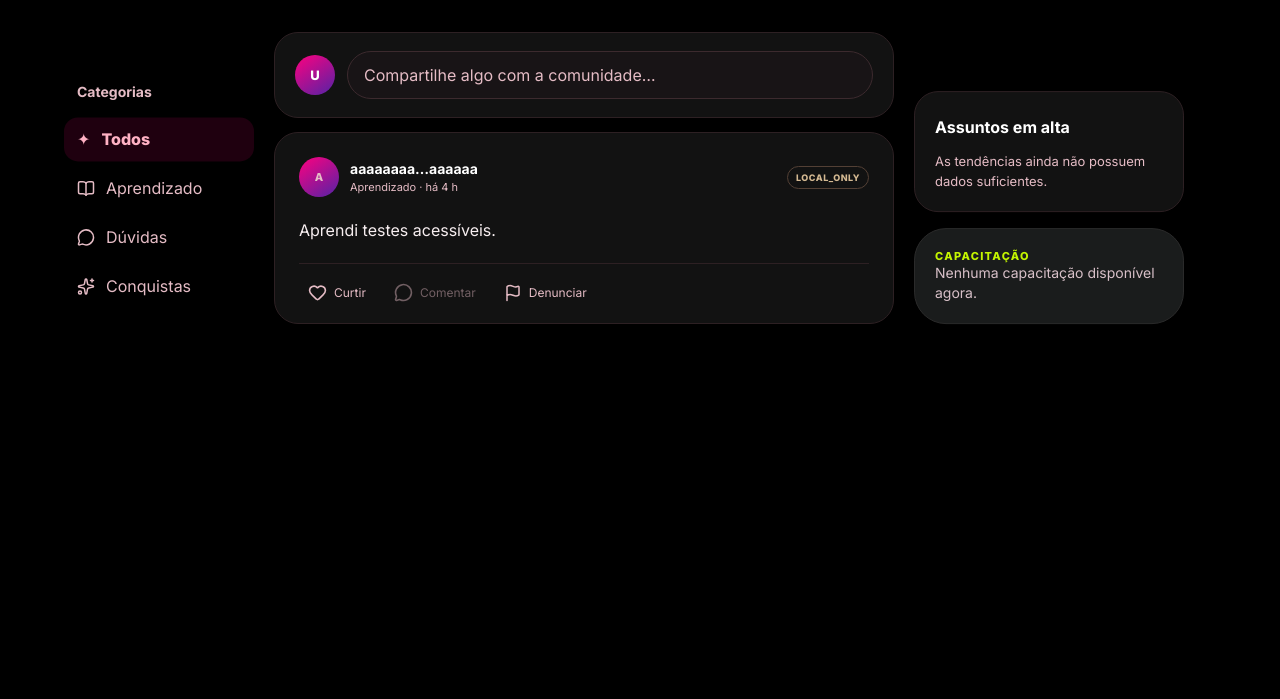
Test: Comunidade da Fase 8 › rejeita conteúdo vazio e mantém mídia desabilitada
The width and height of the screenshot is (1280, 699).
Click the button "U Compartilhe algo com a comunidade…" at (584, 75), box [295,51,873,99]
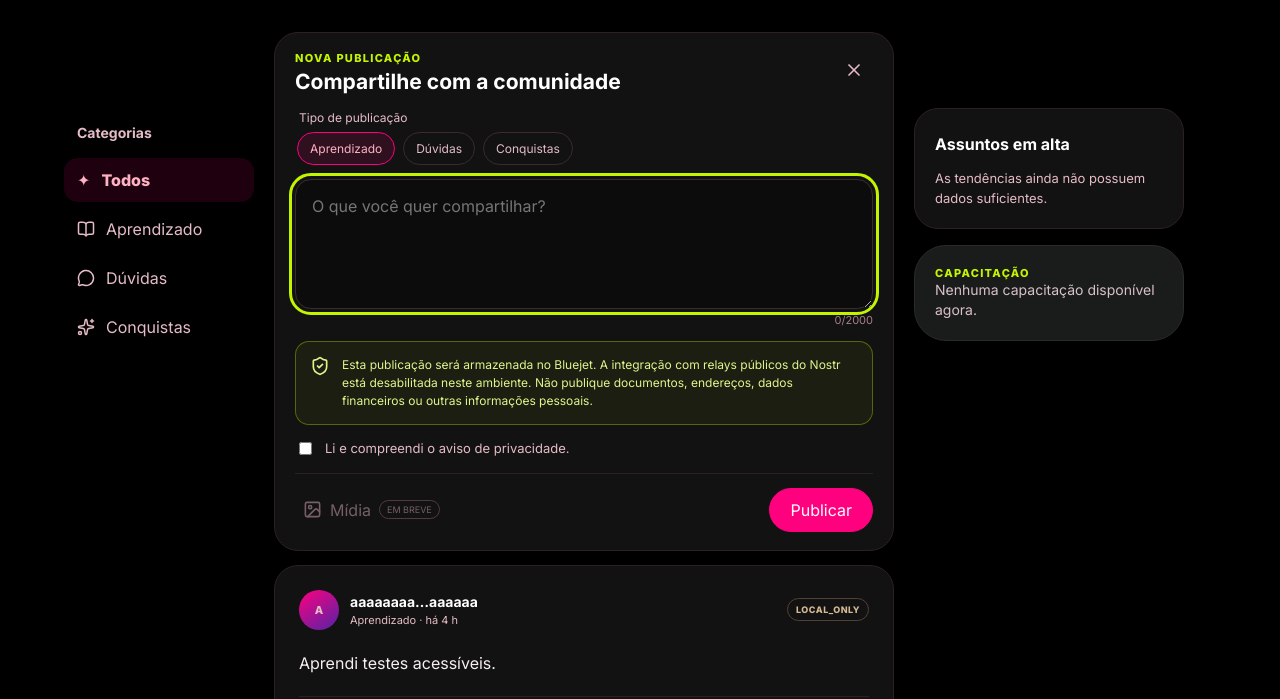
expect the button "Mídia Em breve" is disabled: met, box [295,492,448,528]
Click the checkbox labelled "Li e compreendi o aviso de privacidade." at (306, 448), box [299,442,312,455]
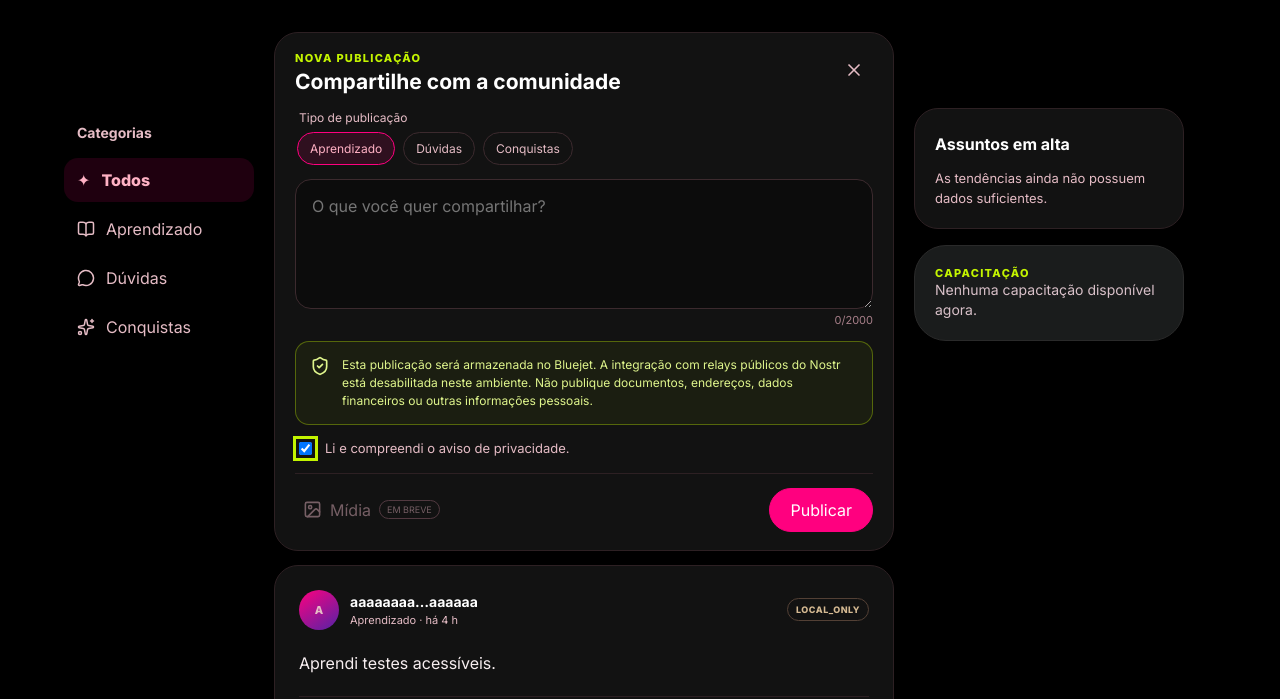
Click the button "Publicar" at (821, 510), box [770,488,873,532]
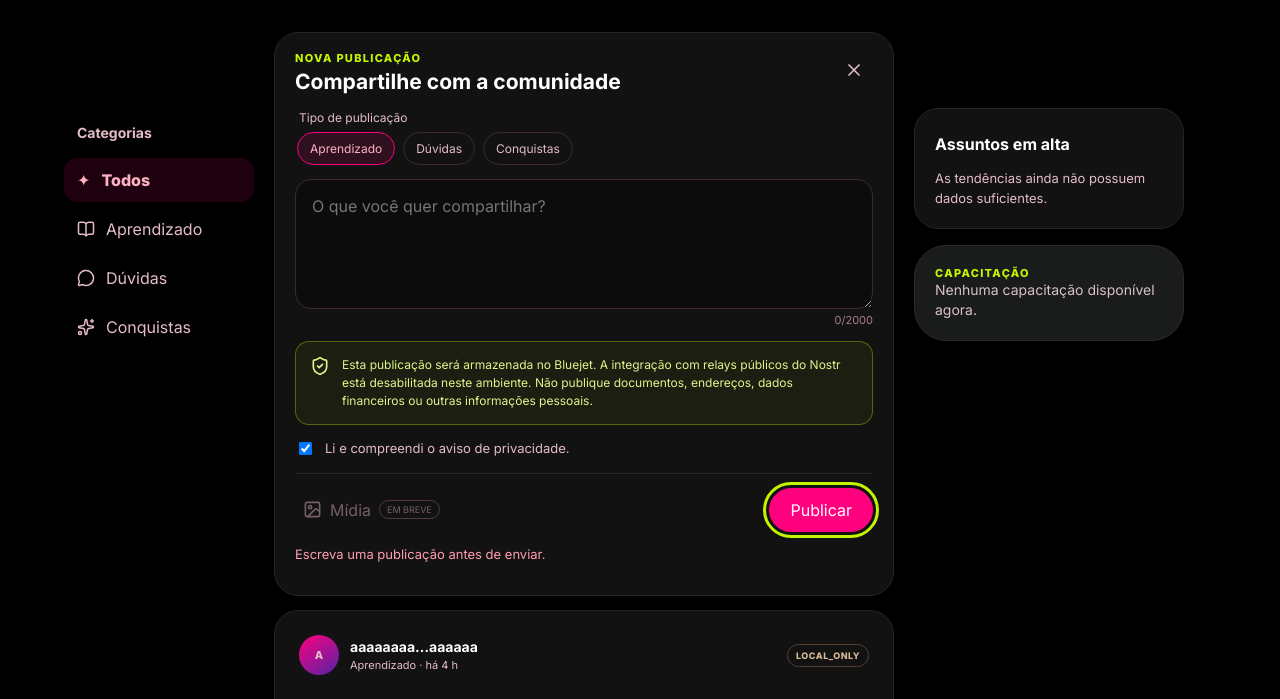
expect the text "Escreva uma publicação antes de enviar." is shown: met, box [295,546,546,562]
